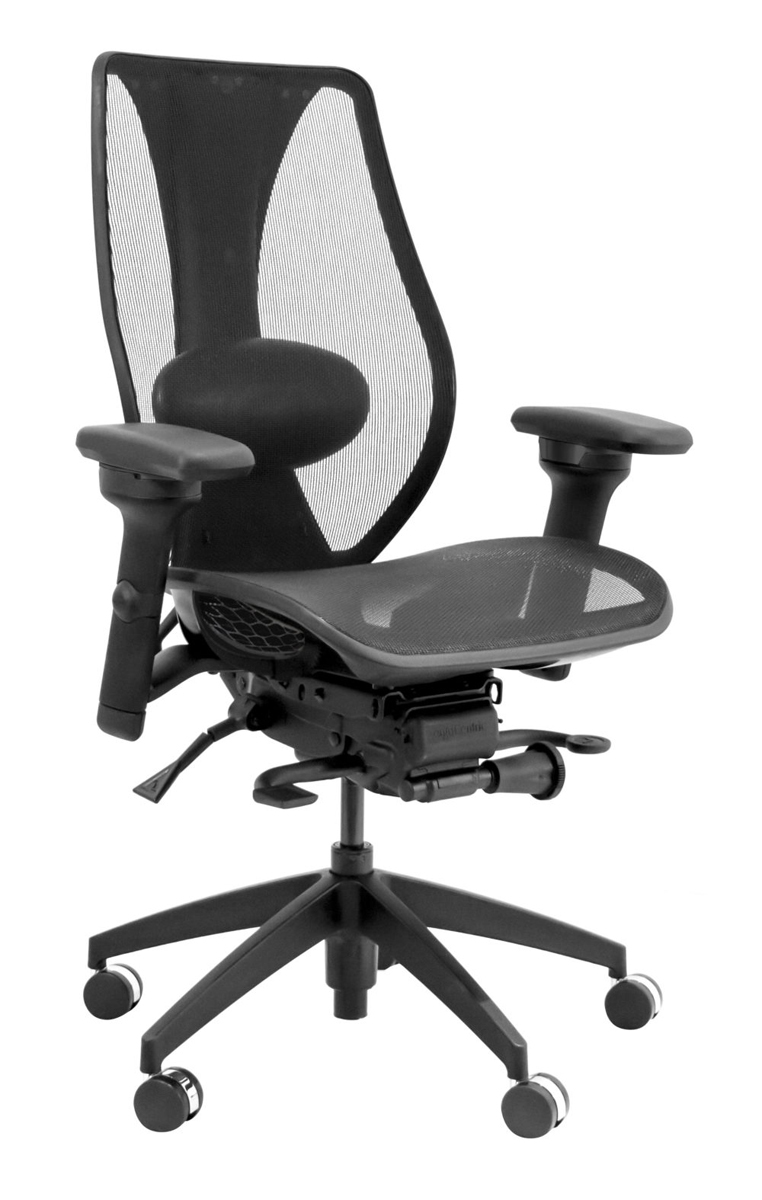chairs: (40, 44, 699, 1146)
